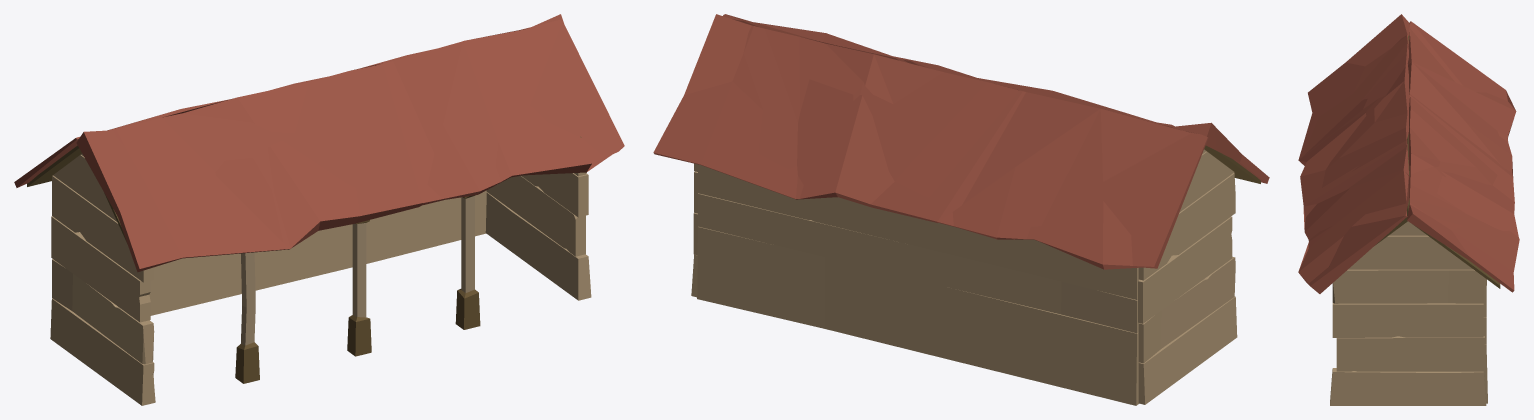
Rendered from Horse_Stable.fbx.
3 views of the same model, side by side, from view 1: azimuth 30°, elevation 25°; view 2: azimuth 150°, elevation 25°; view 3: azimuth 270°, elevation 25° (orthographic). The views are drawn at different scales.
Visible parts, largest first — view 1: Horse_Stable; view 2: Horse_Stable; view 3: Horse_Stable.
Part boxes in pixels (left/top/right/bottom): Horse_Stable: left=14, top=14, right=624, bottom=405; Horse_Stable: left=653, top=14, right=1269, bottom=405; Horse_Stable: left=1298, top=14, right=1519, bottom=405.
Bounding box in the file's own units: 704 × 350 × 332.
